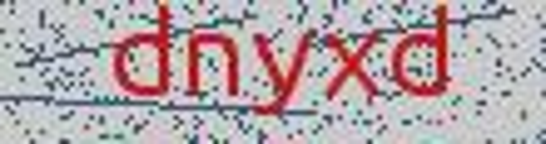d: (386, 2, 461, 103), (110, 3, 177, 101)
n: (181, 23, 247, 104)
x: (320, 24, 384, 112)
y: (249, 25, 316, 121)
